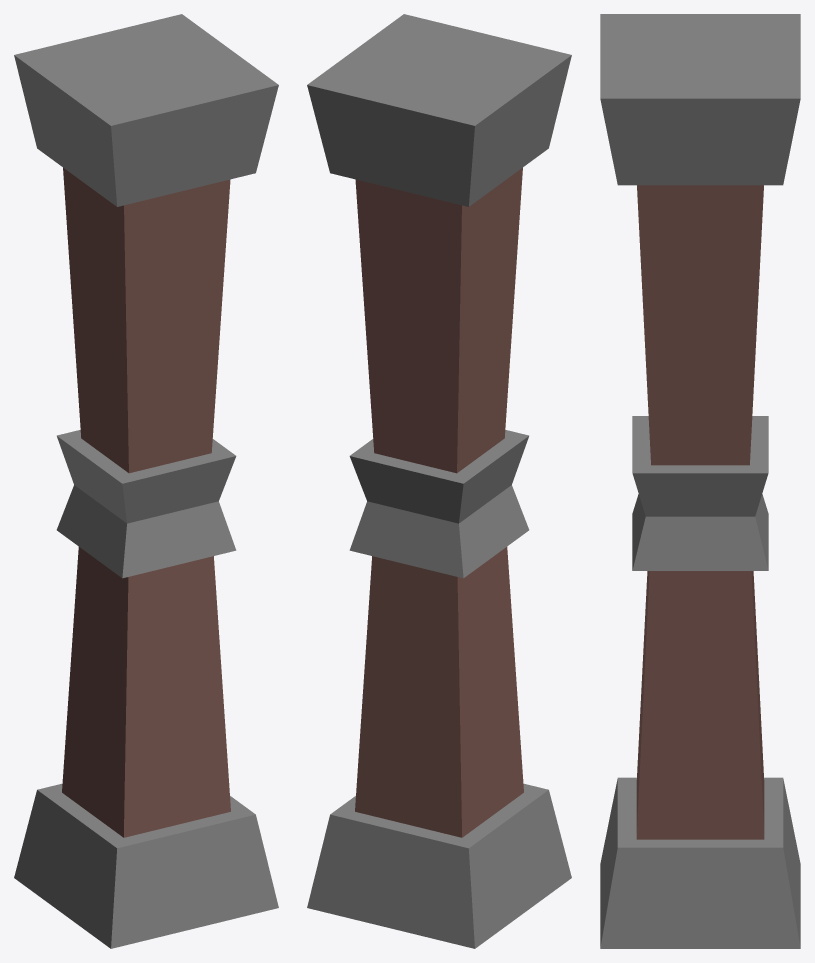
File: BridgeSectionWoodReinforced.fbx
3 views of the same model, side by side, from view 1: azimuth 30°, elevation 25°; view 2: azimuth 150°, elevation 25°; view 3: azimuth 270°, elevation 25° (orthographic). The views are drawn at different scales.
Visible parts, largest first — view 1: pCube40; view 2: pCube40; view 3: pCube40.
Part boxes in pixels (x1,y1,x2,y2): pCube40: (14,14,278,948); pCube40: (307,14,571,948); pCube40: (600,14,800,948).
Bounding box in the file's own units: 62.08 × 291 × 62.07.
